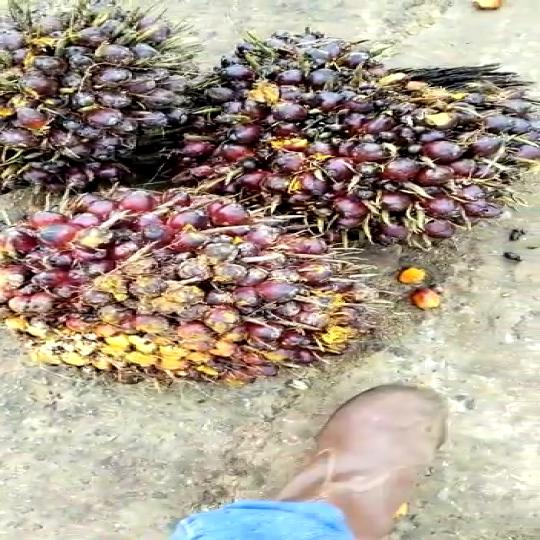kurang masak: (188, 28, 540, 261), (0, 192, 417, 386), (0, 0, 195, 208)
